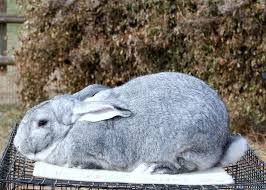bunny: (11, 67, 259, 177)
